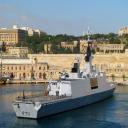Fragata: (12, 47, 119, 122)
